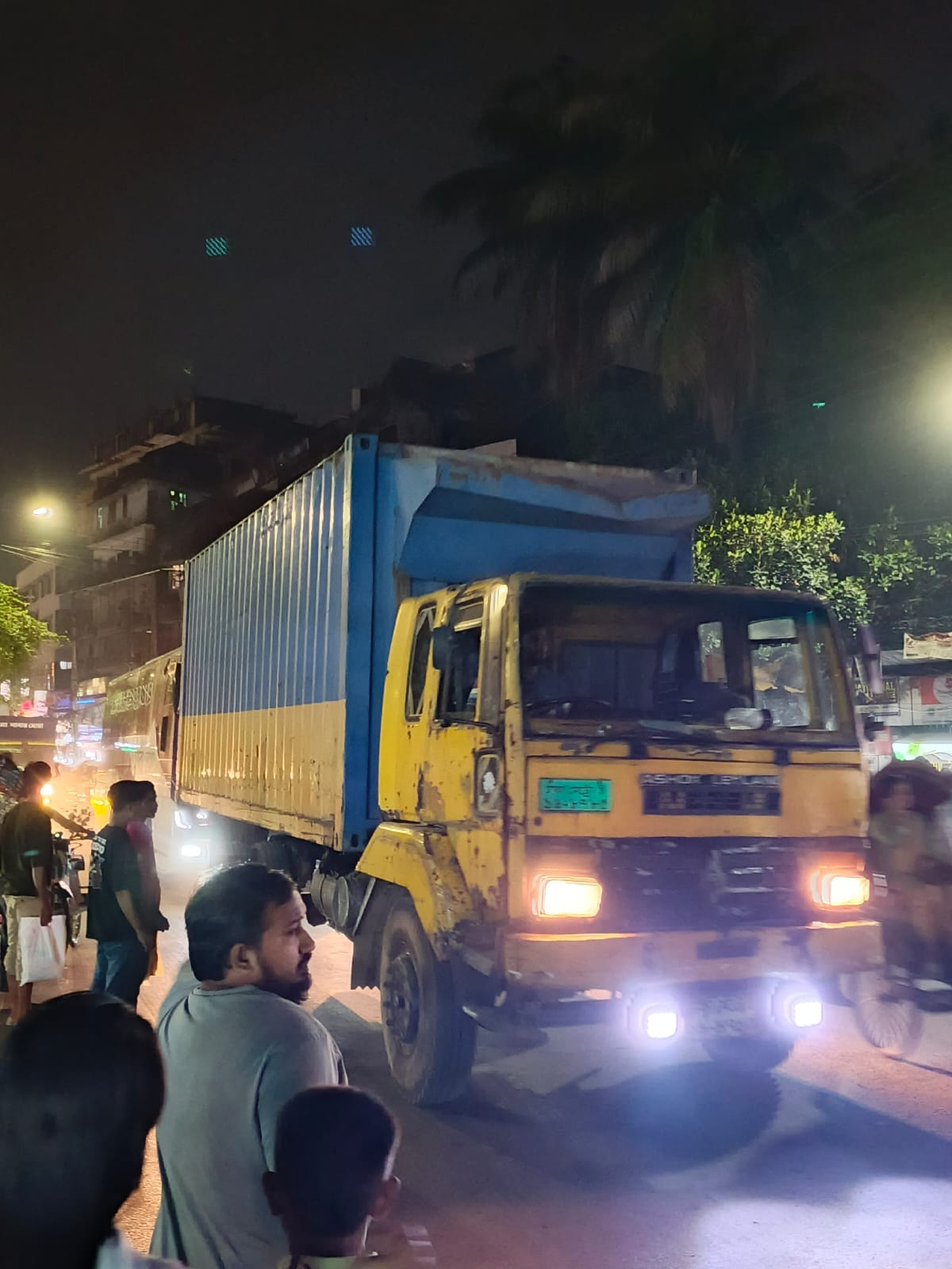Bikes: (11, 777, 106, 934)
Bus: (103, 641, 205, 797)
Truck: (148, 384, 946, 1259), (0, 680, 74, 788)
auto-ricksaw: (862, 688, 952, 1077)
